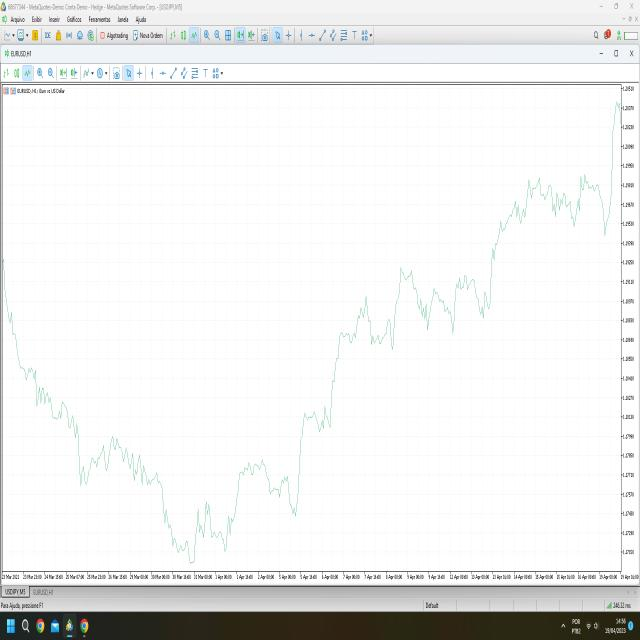bandeira_alta: (294, 367, 330, 542)
